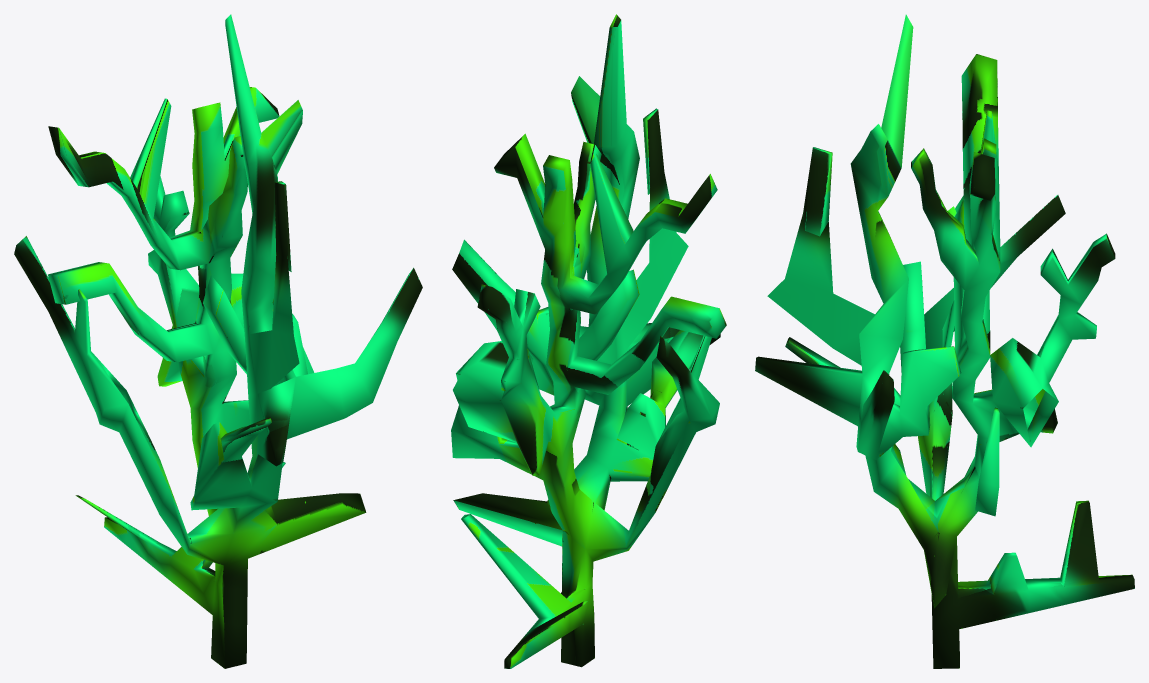
The model's file is plante7.fbx.
The picture shows the model from 3 angles, left to right: view 1: azimuth 30°, elevation 25°; view 2: azimuth 150°, elevation 25°; view 3: azimuth 270°, elevation 25°; orthographic projection. The views are drawn at different scales.
Visible parts, largest first — view 1: Cube.001; view 2: Cube.001; view 3: Cube.001.
Boxes of the visible parts, bbox=[...] form: Cube.001: bbox=[14, 14, 422, 668]; Cube.001: bbox=[451, 14, 726, 668]; Cube.001: bbox=[755, 14, 1134, 668].
Bounding box in the file's own units: 2577 × 5145 × 2763.
Materials: 1 (1 with a texture image).
